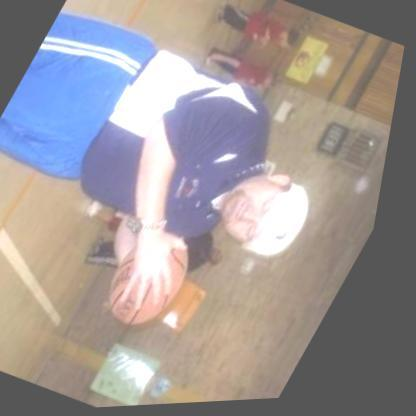basketball: (91, 214, 228, 347)
